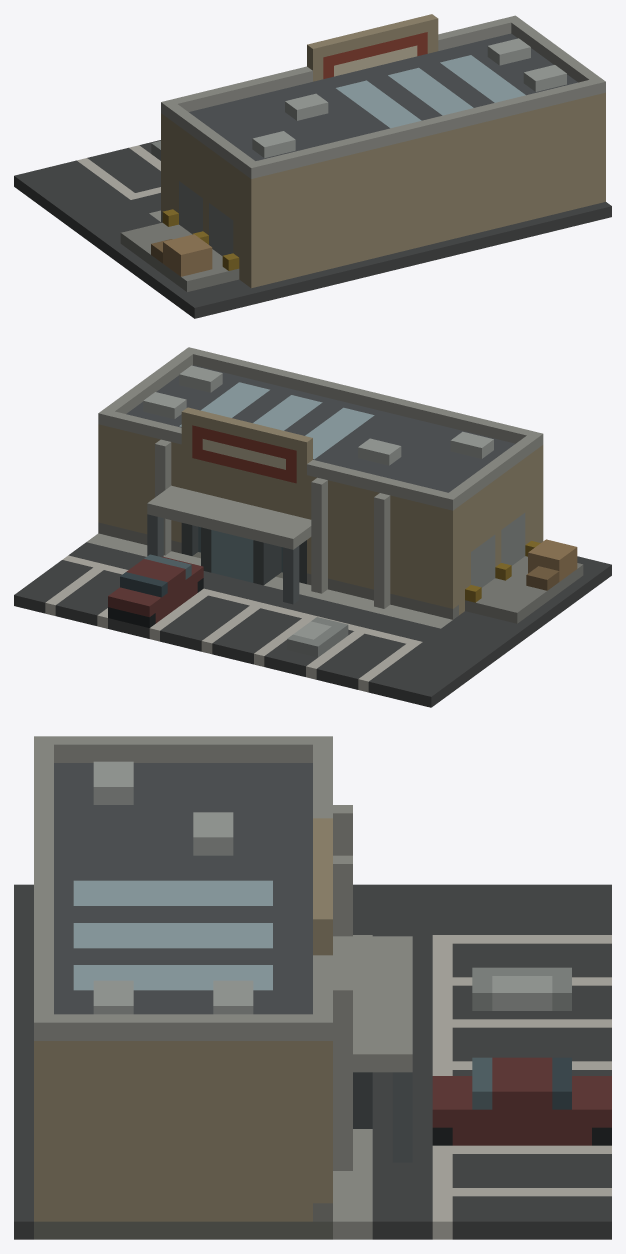
File: Claude_supermarket.glb
The picture shows the model from 3 angles, top to bottom: view 1: azimuth 30°, elevation 25°; view 2: azimuth 150°, elevation 25°; view 3: azimuth 270°, elevation 25°; orthographic projection. The views are drawn at different scales.
Visible parts, largest first — view 1: Claude_supermarket; view 2: Claude_supermarket; view 3: Claude_supermarket.
Part boxes in pixels (<box>): Claude_supermarket: <box>14,14,611,318</box>; Claude_supermarket: <box>14,347,611,707</box>; Claude_supermarket: <box>14,736,611,1239</box>.
Size of the model in its own units: 20 by 7 by 15.
